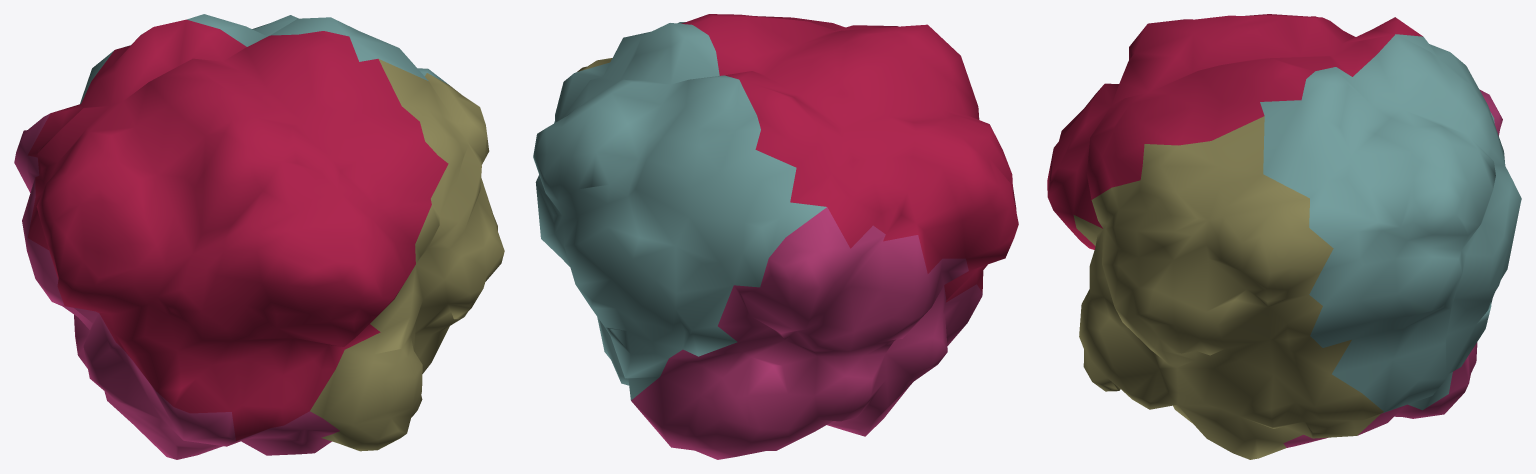
File: island_04.fbx
3 renders of one model, left to right at view 1: azimuth 30°, elevation 25°; view 2: azimuth 150°, elevation 25°; view 3: azimuth 270°, elevation 25°, orthographic.
Visible parts, largest first — view 1: attribwrangle4; view 2: attribwrangle4; view 3: attribwrangle4.
Part boxes in pixels (x1=…): attribwrangle4: x1=14, y1=14, x2=504, y2=459; attribwrangle4: x1=533, y1=14, x2=1018, y2=459; attribwrangle4: x1=1047, y1=14, x2=1521, y2=459.
Bounding box in the file's own units: 7.86 × 6.67 × 7.44.
